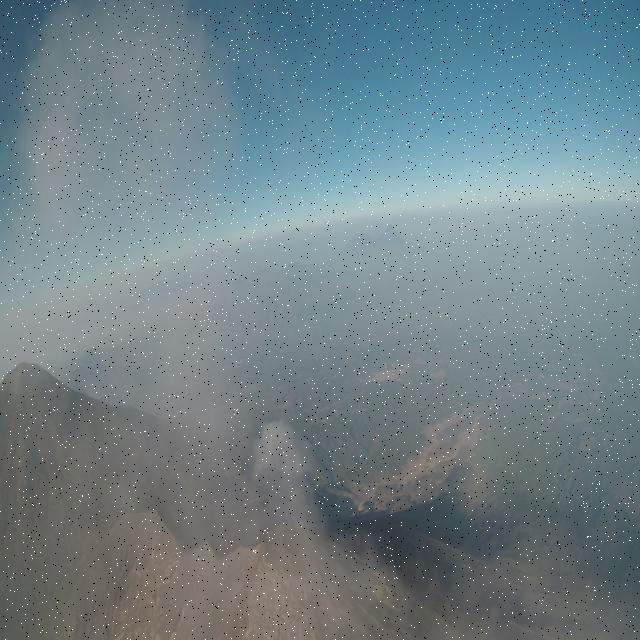Plume: (256, 414, 313, 532)
Summit: (234, 512, 390, 640)
